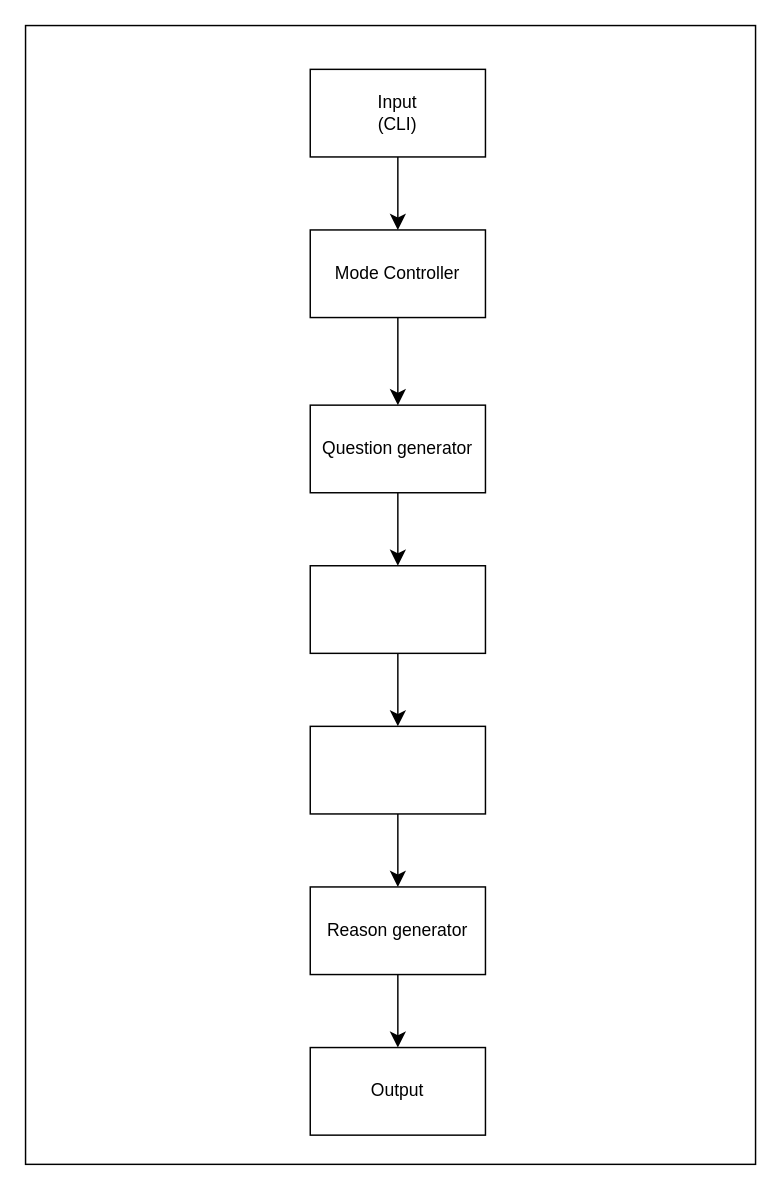
Image size: 781x1190. Some labels were removed from this diagram. The centre of each missing label's shape, as x and y in pixels:
"Decision Analyzer" belongs at (397,769).
"Scoring Engine" belongs at (397,608).
